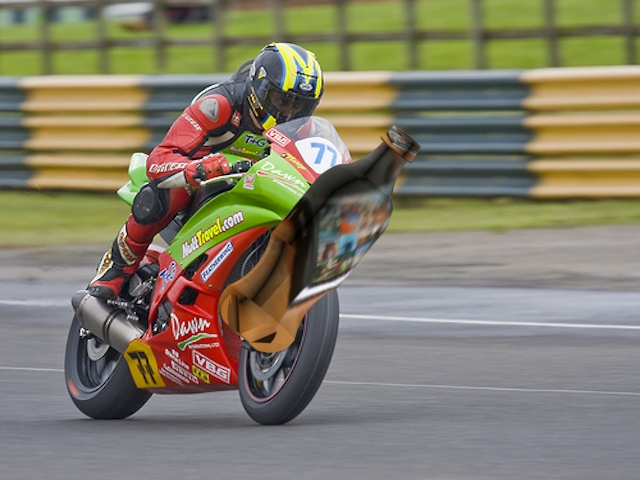bottle: (208, 113, 430, 368)
